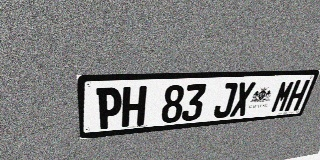3: (181, 84, 207, 122)
8: (160, 84, 186, 124)
H: (121, 86, 147, 127), (284, 80, 310, 112)
J: (212, 82, 239, 119)
M: (270, 80, 296, 113)
P: (96, 87, 122, 130)
X: (229, 82, 256, 117)
